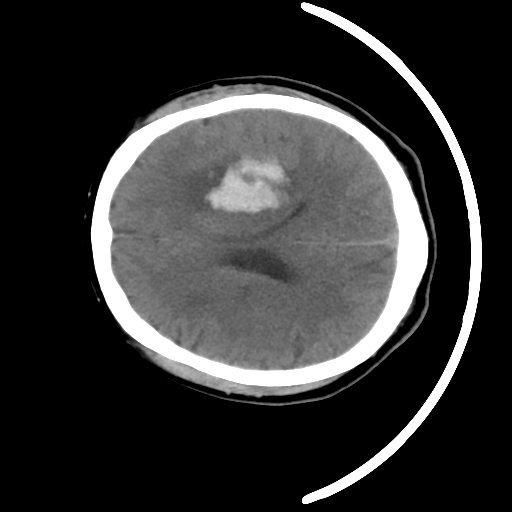a: (172, 139, 304, 229)
